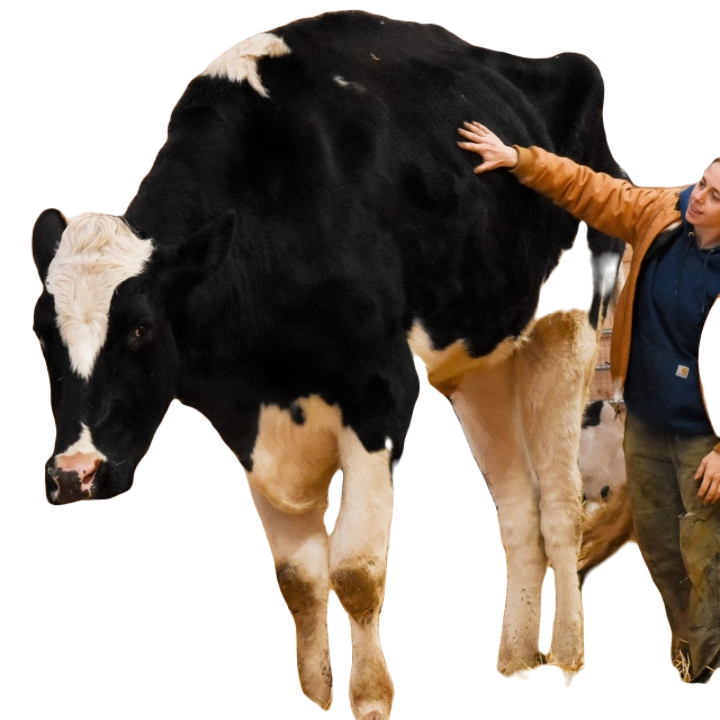Cow: (27, 7, 645, 719)
